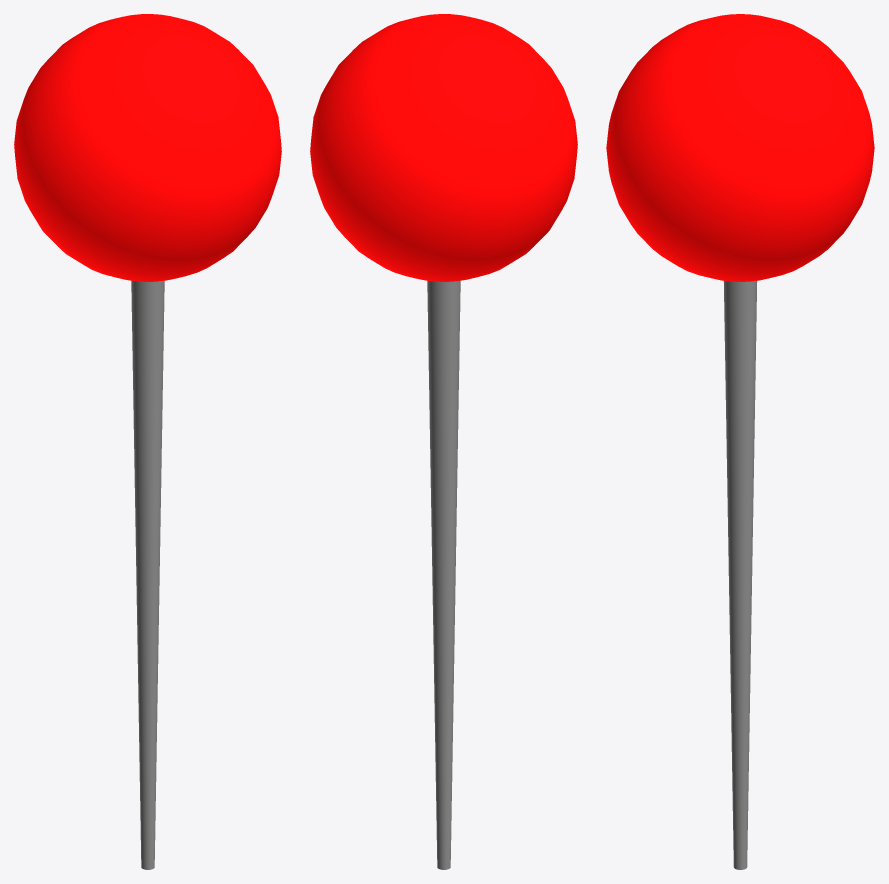
Rendered from pin.fbx.
3 renders of one model, left to right at view 1: azimuth 30°, elevation 25°; view 2: azimuth 150°, elevation 25°; view 3: azimuth 270°, elevation 25°, orthographic.
Visible parts, largest first — view 1: Cone; view 2: Cone; view 3: Cone.
Part boxes in pixels (<box>): Cone: <box>14,14,281,869</box>; Cone: <box>310,14,577,869</box>; Cone: <box>606,14,874,869</box>.
Size of the model in its own units: 200 by 691 by 200.
